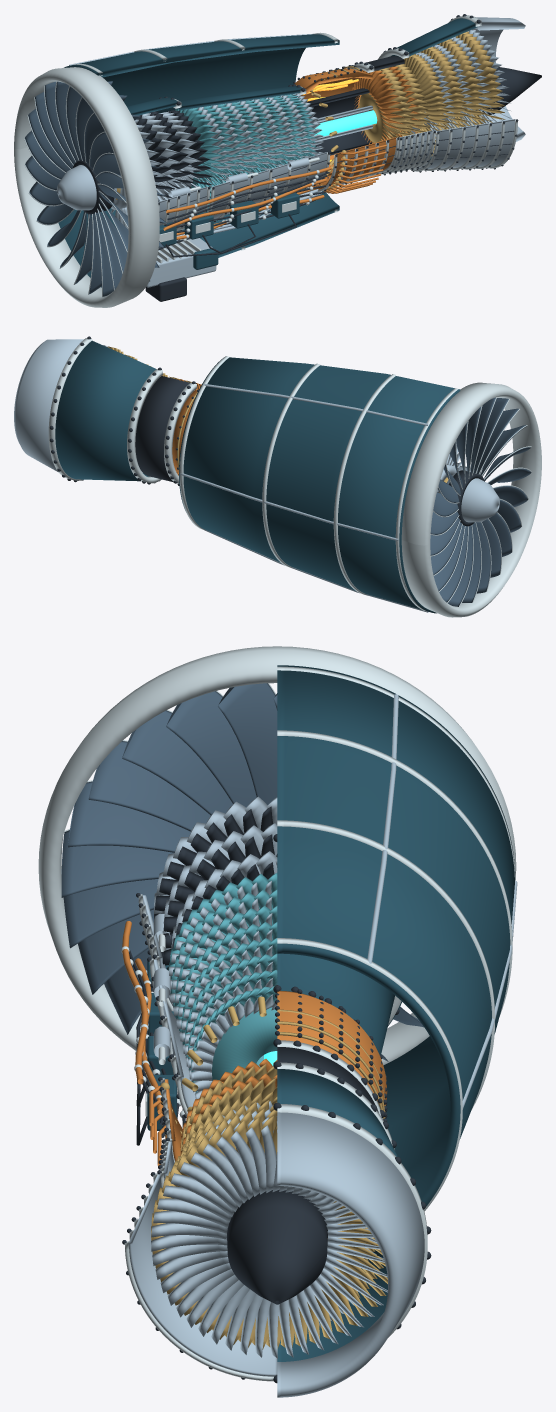
File: aircraft-engine-detailed.glb
The picture shows the model from 3 angles, top to bottom: view 1: azimuth 30°, elevation 25°; view 2: azimuth 150°, elevation 25°; view 3: azimuth 270°, elevation 25°; orthographic projection. The views are drawn at different scales.
Parts seen in each view (by area): view 1: BYPASS | nacelle half cutaway__portal, FAN | intake lip__portal, FAN | 24 swept blades__portal, LPT | lower maintenance skin__portal, HPC | lower maintenance skin__portal, COMBUSTOR | inner liner__portal, LPT | rotor stage 01__portal, LPT | rotor stage 04__portal, FAN | spinner__portal, LPT | rotor stage 03__portal, HPT | nozzle guide vanes 01__portal, GEARBOX | main housing__portal (+54 smaller); view 2: BYPASS | nacelle half cutaway__portal, FAN | intake lip__portal, FAN | 24 swept blades__portal, LPT | half casing__portal, EXHAUST | half nozzle__portal, HPT | half casing__portal, FAN | spinner__portal, BYPASS | polished frame.001__portal, LPT | bolted flange__portal, BYPASS | polished frame.002__portal, EXHAUST | bolted flange__portal, BYPASS | polished frame__portal (+7 smaller); view 3: BYPASS | nacelle half cutaway__portal, FAN | 24 swept blades__portal, LPT | stator stage 04__portal, FAN | intake lip__portal, EXHAUST | half nozzle__portal, EXHAUST | tail cone__portal, LPT | half casing__portal, LPT | lower maintenance skin__portal, LPT | rotor stage 04__portal, HPC | half casing__portal, COMBUSTOR | outer half liner__portal, HPC | compressor drum__portal (+28 smaller).
Boxes of the visible parts, x1=… form: BYPASS | nacelle half cutaway__portal: x1=58, y1=34, x2=339, y2=287; FAN | intake lip__portal: x1=14, y1=67, x2=159, y2=307; FAN | 24 swept blades__portal: x1=24, y1=81, x2=166, y2=296; LPT | lower maintenance skin__portal: x1=418, y1=119, x2=515, y2=169; HPC | lower maintenance skin__portal: x1=207, y1=152, x2=327, y2=218; COMBUSTOR | inner liner__portal: x1=306, y1=88, x2=371, y2=155; LPT | rotor stage 01__portal: x1=403, y1=54, x2=449, y2=156; LPT | rotor stage 04__portal: x1=456, y1=31, x2=505, y2=125; FAN | spinner__portal: x1=57, y1=165, x2=116, y2=210; LPT | rotor stage 03__portal: x1=437, y1=39, x2=486, y2=127; HPT | nozzle guide vanes 01__portal: x1=352, y1=70, x2=405, y2=144; GEARBOX | main housing__portal: x1=146, y1=238, x2=216, y2=287; BYPASS | nacelle half cutaway__portal: x1=179, y1=357, x2=460, y2=613; FAN | intake lip__portal: x1=401, y1=382, x2=541, y2=617; FAN | 24 swept blades__portal: x1=430, y1=397, x2=531, y2=606; LPT | half casing__portal: x1=55, y1=340, x2=155, y2=481; EXHAUST | half nozzle__portal: x1=14, y1=339, x2=83, y2=471; HPT | half casing__portal: x1=135, y1=376, x2=189, y2=482; FAN | spinner__portal: x1=447, y1=472, x2=499, y2=522; BYPASS | polished frame.001__portal: x1=333, y1=374, x2=395, y2=595; LPT | bolted flange__portal: x1=127, y1=369, x2=162, y2=483; BYPASS | polished frame.002__portal: x1=262, y1=363, x2=320, y2=567; EXHAUST | bolted flange__portal: x1=48, y1=338, x2=92, y2=480; BYPASS | polished frame__portal: x1=395, y1=388, x2=458, y2=611; BYPASS | nacelle half cutaway__portal: x1=277, y1=665, x2=515, y2=1206; FAN | 24 swept blades__portal: x1=61, y1=683, x2=423, y2=1061; LPT | stator stage 04__portal: x1=151, y1=1125, x2=387, y2=1358; FAN | intake lip__portal: x1=38, y1=646, x2=516, y2=1065; EXHAUST | half nozzle__portal: x1=277, y1=1112, x2=424, y2=1397; EXHAUST | tail cone__portal: x1=227, y1=1189, x2=327, y2=1304; LPT | half casing__portal: x1=277, y1=1069, x2=397, y2=1361; LPT | lower maintenance skin__portal: x1=129, y1=1174, x2=277, y2=1376; LPT | rotor stage 04__portal: x1=151, y1=1116, x2=387, y2=1349; HPC | half casing__portal: x1=277, y1=953, x2=394, y2=1054; COMBUSTOR | outer half liner__portal: x1=277, y1=990, x2=387, y2=1105; HPC | compressor drum__portal: x1=212, y1=1007, x2=277, y2=1080.
Size of the model in its own units: 11.78 by 5.33 by 5.19.
